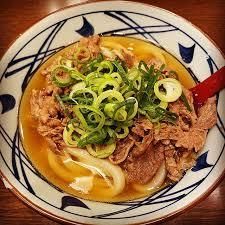niku: (1, 1, 224, 225)
